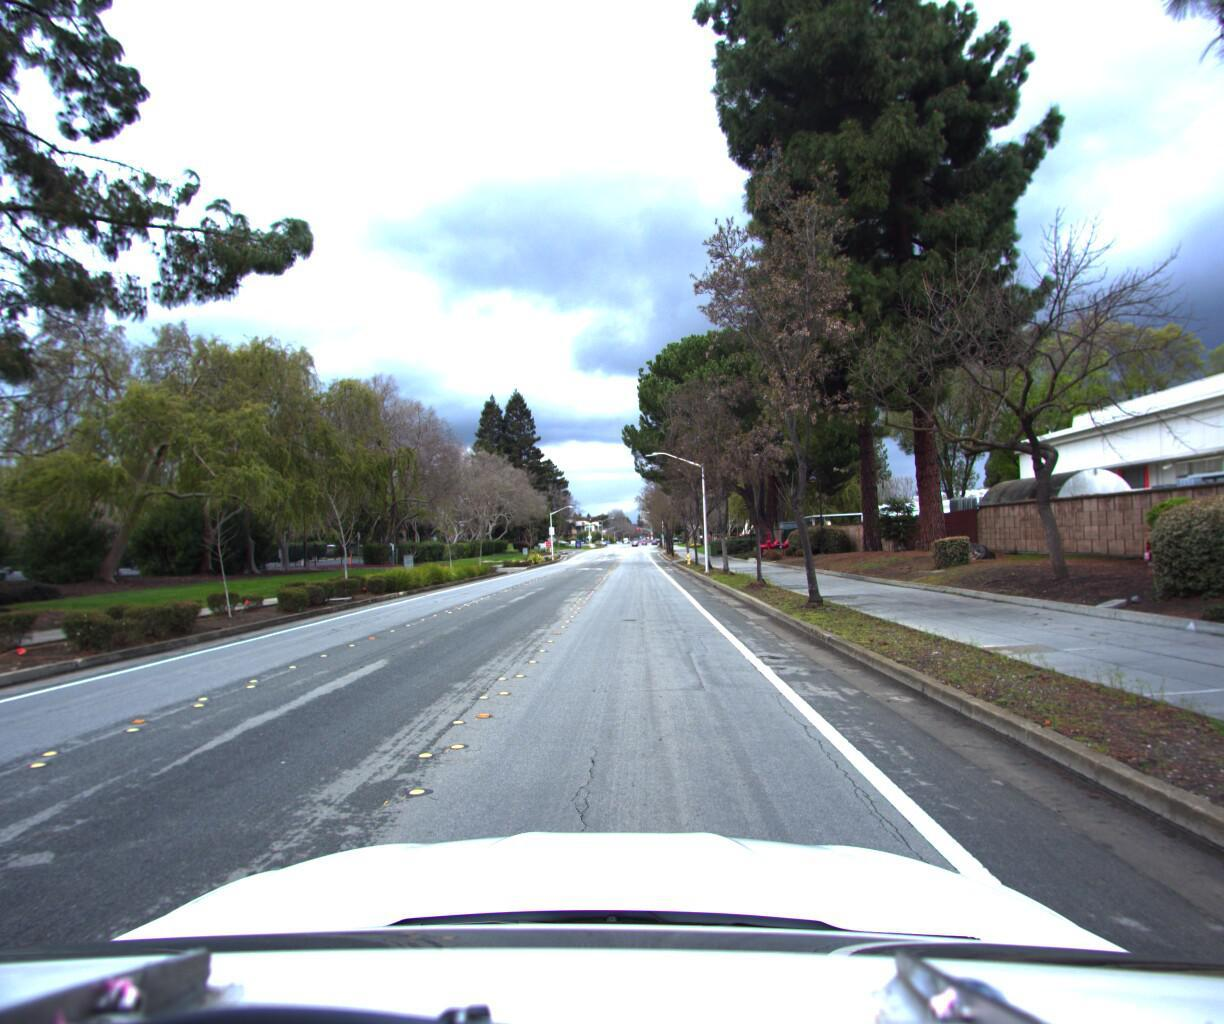truck: (847, 486, 1059, 554)
